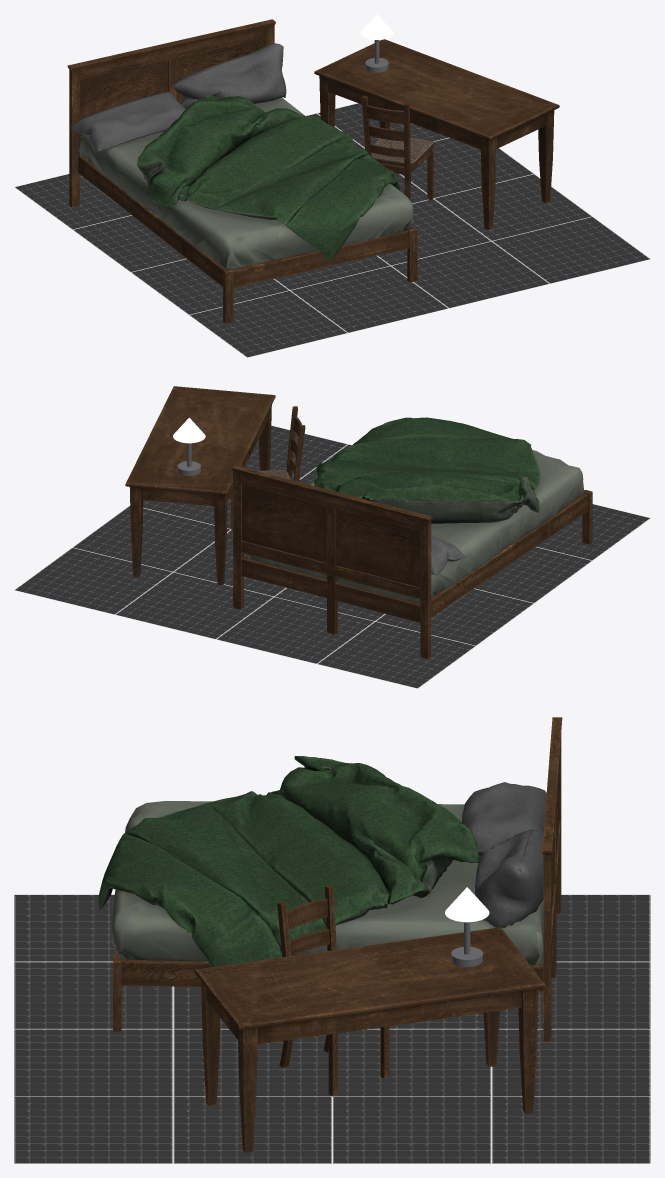
Rendered from bedroom_furniture_set_-_game_ready.glb.
3 views of the same model, one above another, from view 1: azimuth 30°, elevation 25°; view 2: azimuth 150°, elevation 25°; view 3: azimuth 270°, elevation 25° (orthographic). The views are drawn at different scales.
Parts seen in each view (by area): view 1: SM_Bed_01, Plane, DeskLamp; view 2: SM_Bed_01, Plane, DeskLamp; view 3: Plane, SM_Bed_01, DeskLamp.
Boxes of the visible parts, box(x1,y1,x2,y2) form: SM_Bed_01: box(67, 19, 559, 323); Plane: box(14, 103, 650, 357); DeskLamp: box(361, 14, 393, 72); SM_Bed_01: box(125, 386, 592, 659); Plane: box(14, 425, 650, 688); DeskLamp: box(173, 417, 205, 475); Plane: box(14, 894, 650, 1163); SM_Bed_01: box(98, 717, 562, 1152); DeskLamp: box(445, 887, 489, 966).
Bounding box in the file's own units: 4 × 1.42 × 4.
4 materials, 2 textured.
